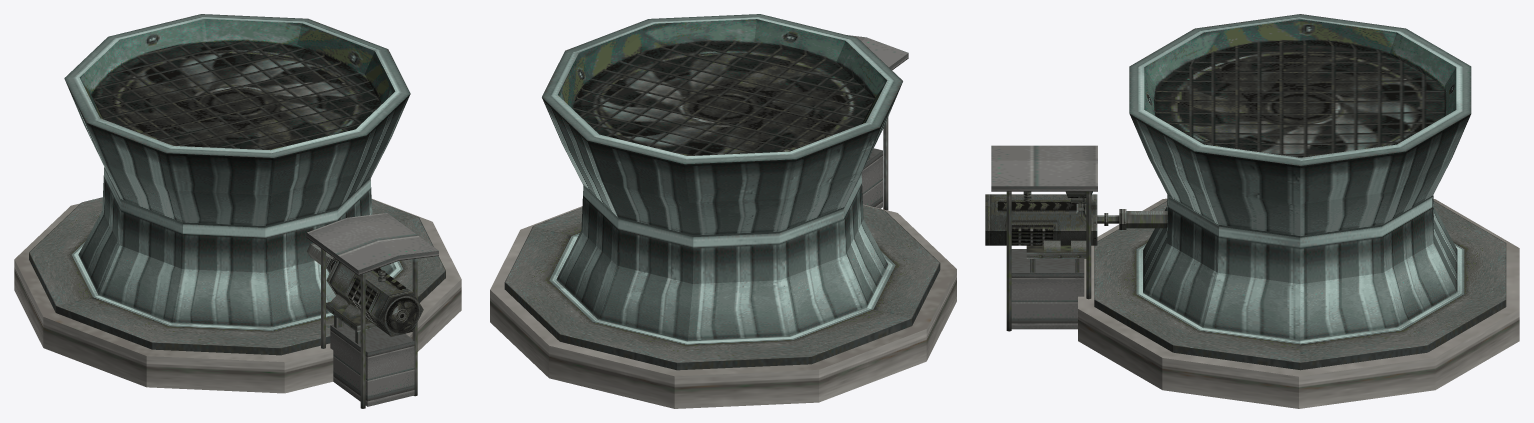
Rendered from suction_well_01.obj.
The picture shows the model from 3 angles, left to right: view 1: azimuth 30°, elevation 25°; view 2: azimuth 150°, elevation 25°; view 3: azimuth 270°, elevation 25°; orthographic projection. The views are drawn at different scales.
Visible parts, largest first — view 1: Cylinder042; view 2: Cylinder042; view 3: Cylinder042.
Boxes of the visible parts, box(x1,y1,x2,y2) form: Cylinder042: box(14, 14, 461, 408); Cylinder042: box(490, 14, 956, 408); Cylinder042: box(985, 14, 1519, 408).
Size of the model in its own units: 22.51 by 11.94 by 25.91.
